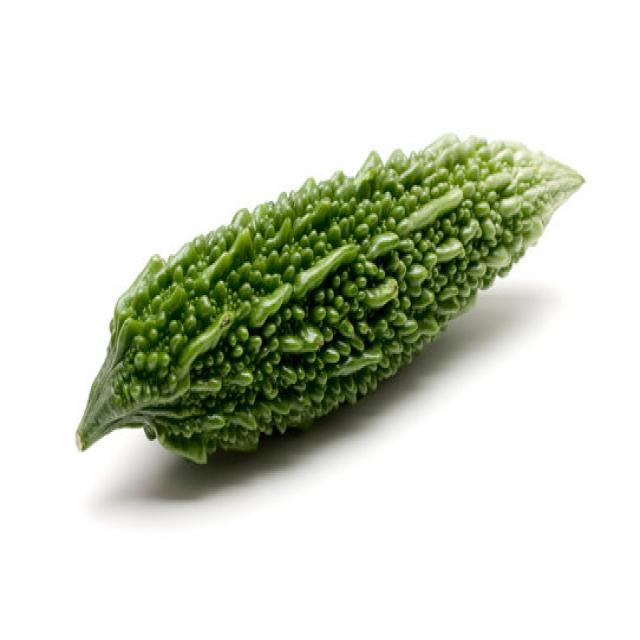Bitter_Gourd: (75, 130, 584, 466)
